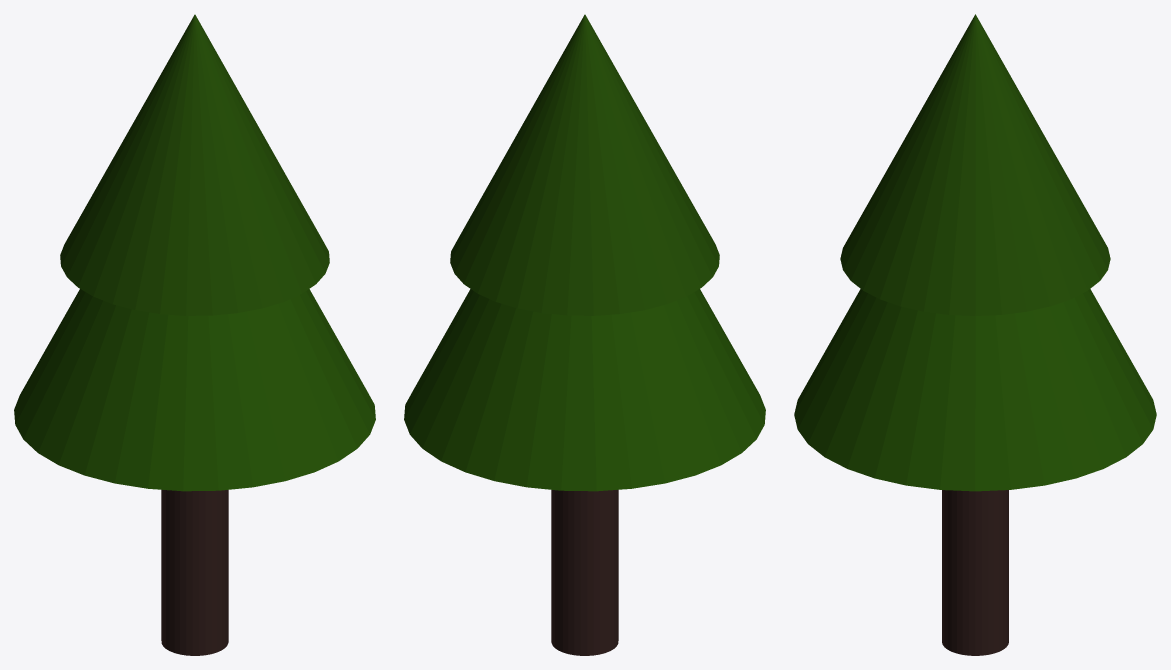
The model's file is Tree.fbx.
3 views of the same model, side by side, from view 1: azimuth 30°, elevation 25°; view 2: azimuth 150°, elevation 25°; view 3: azimuth 270°, elevation 25° (orthographic).
Visible parts, largest first — view 1: Cone, Cone.001, Cylinder; view 2: Cone, Cone.001, Cylinder; view 3: Cone, Cone.001, Cylinder.
Boxes of the visible parts, left/top/right/bottom form: Cone: left=14, top=289, right=375, bottom=491; Cone.001: left=60, top=14, right=329, bottom=315; Cylinder: left=161, top=489, right=228, bottom=655; Cone: left=404, top=289, right=765, bottom=491; Cone.001: left=450, top=14, right=719, bottom=315; Cylinder: left=551, top=489, right=618, bottom=655; Cone: left=794, top=289, right=1156, bottom=491; Cone.001: left=840, top=14, right=1110, bottom=315; Cylinder: left=942, top=490, right=1008, bottom=655.
Bounding box in the file's own units: 603 × 1152 × 603.
